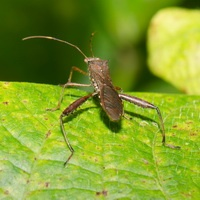insect: (22, 36, 179, 164)
